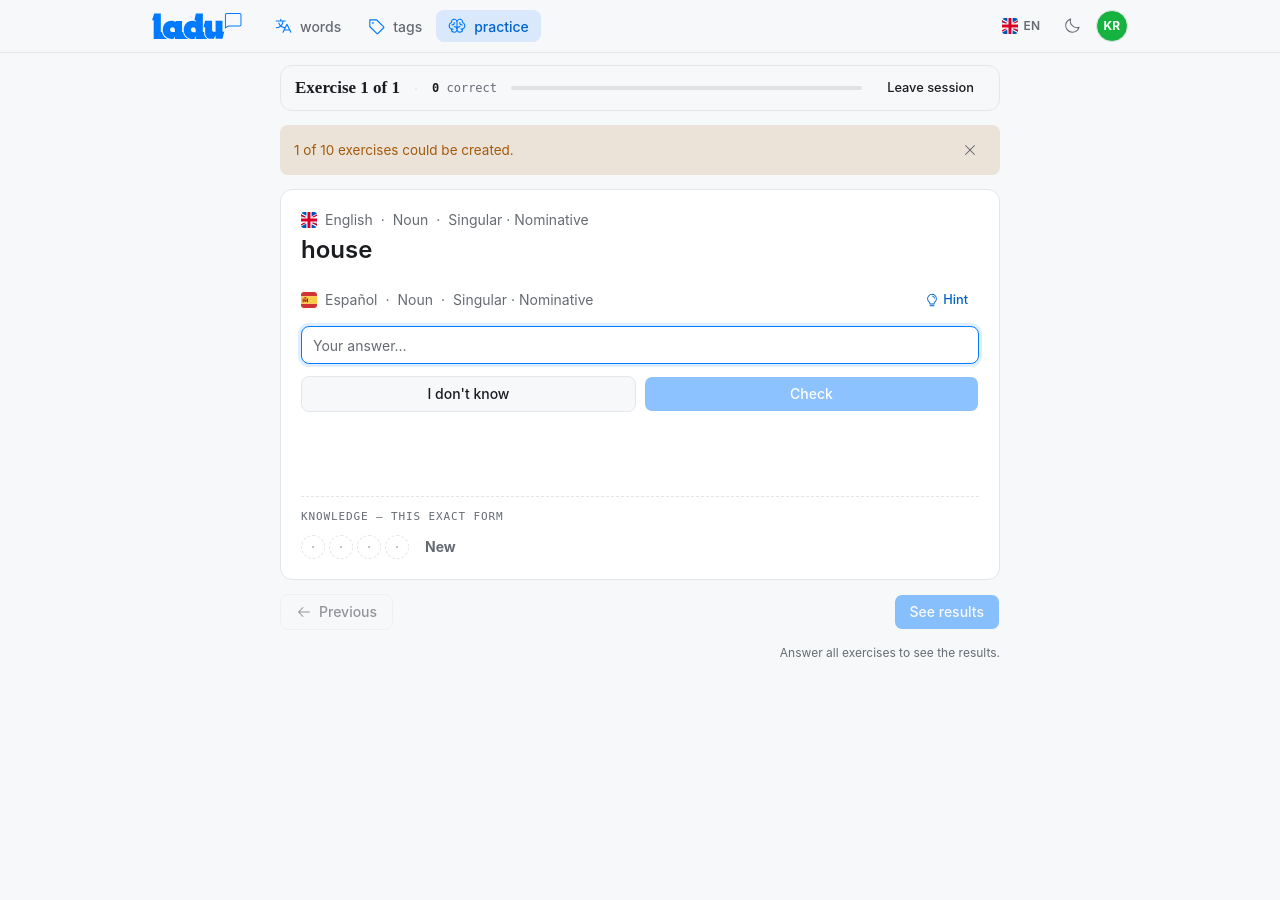
Test case: SessionView — typed answers › marks a base-form hint with an asterisk and a note
Click the button "Hint" at (947, 300), box left=914, top=286, right=979, bottom=314
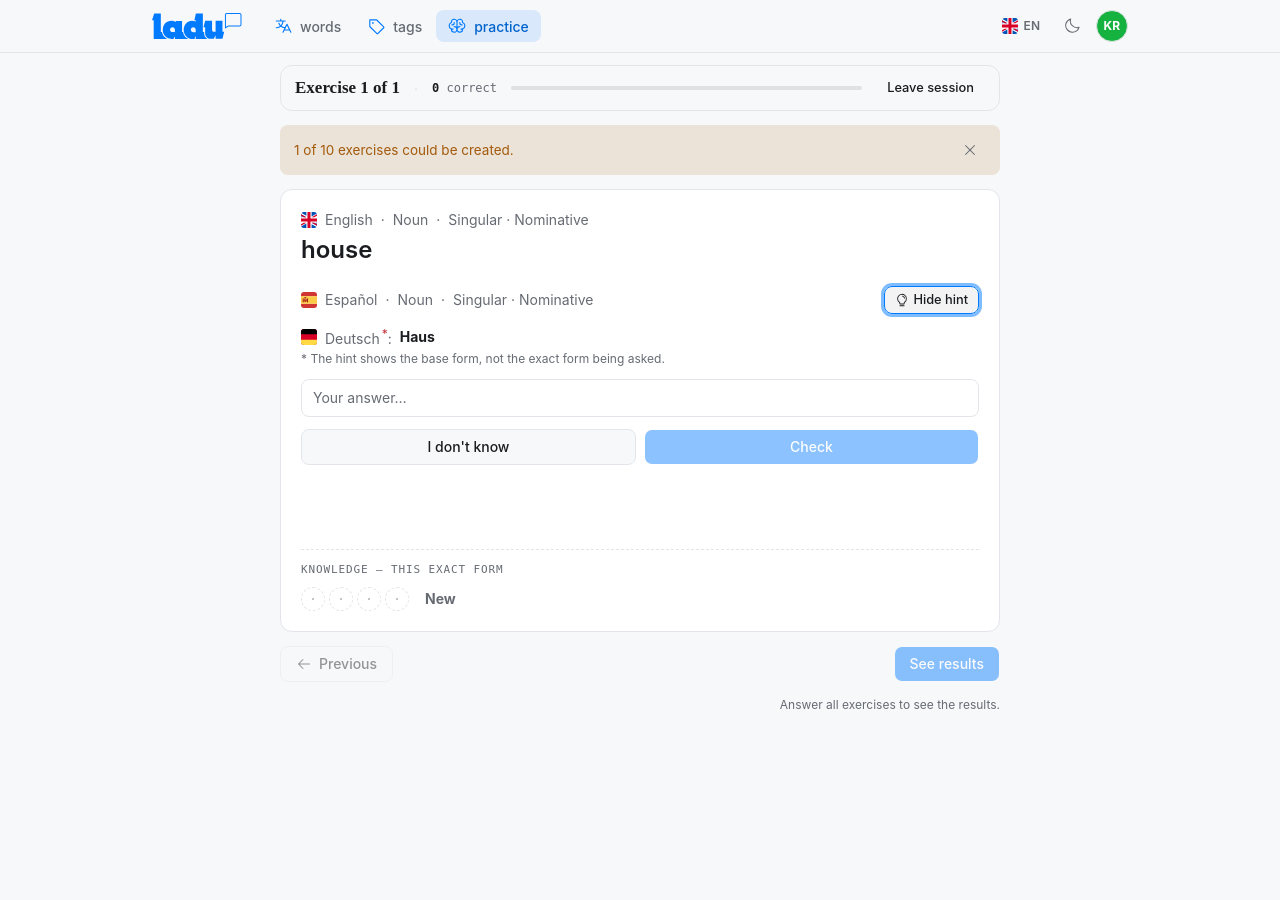
Now the text "*" is shown, box left=382, top=326, right=388, bottom=341
Now the text "not the exact form being asked" is shown, box left=310, top=351, right=665, bottom=366
